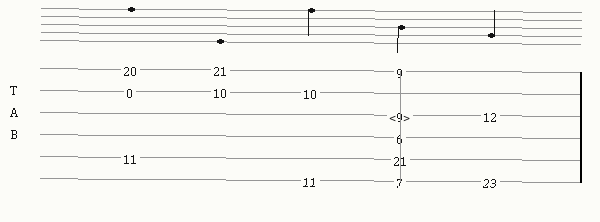0: (126, 86, 137, 99)
10: (213, 86, 231, 99), (303, 86, 321, 99)
11: (123, 152, 141, 165), (303, 174, 321, 187)
12: (483, 108, 501, 121)
20: (123, 64, 141, 77)
21: (213, 64, 231, 77), (393, 152, 411, 165)
23: (483, 174, 501, 187)
6: (396, 130, 407, 143)
7: (396, 174, 407, 187)
9: (396, 64, 407, 77)
harmonic: (389, 108, 414, 121)
